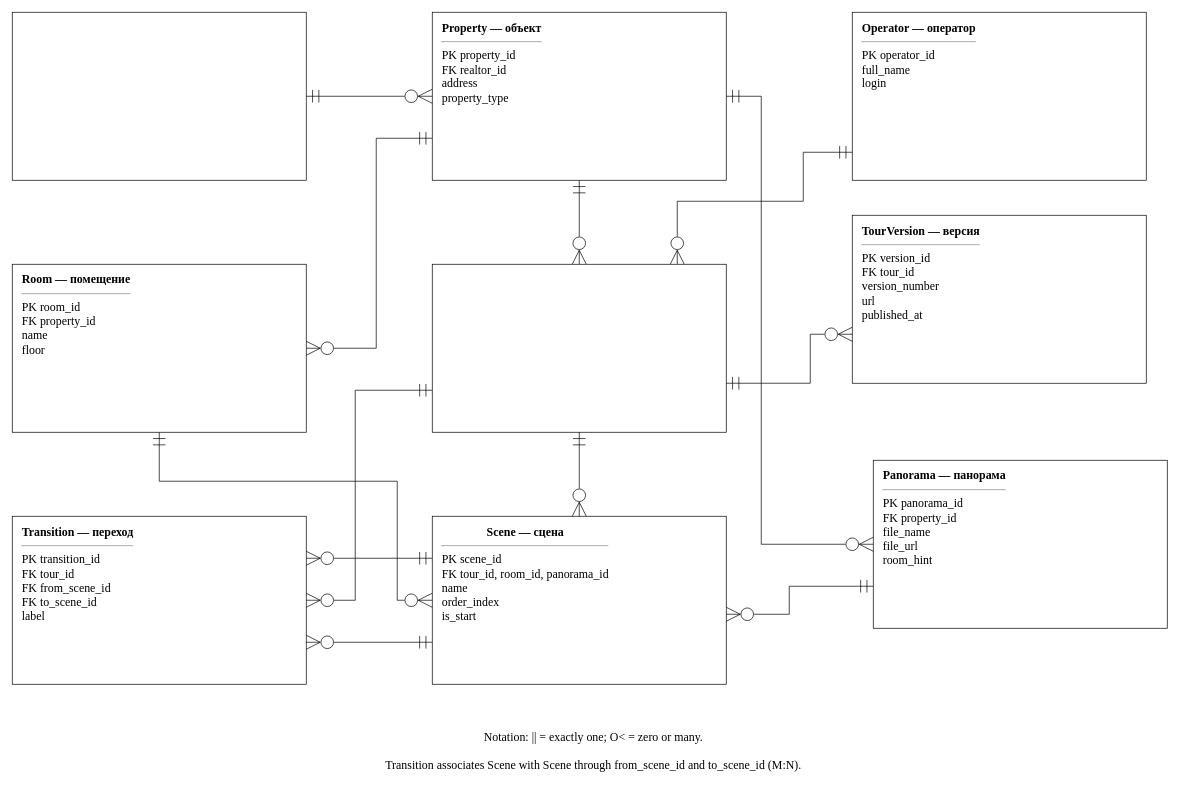
Some shapes in this 1180 by 789 pixel diagram are drawn without their labels. The box of each missing label's shape, as (x1, y1, x2, y2) in pixels:
Realtor — риелтор PK realtor_id full_name contact: (12, 12, 306, 180)
Tour — тур PK tour_id FK property_id, operator_id status created_at: (432, 264, 726, 432)
